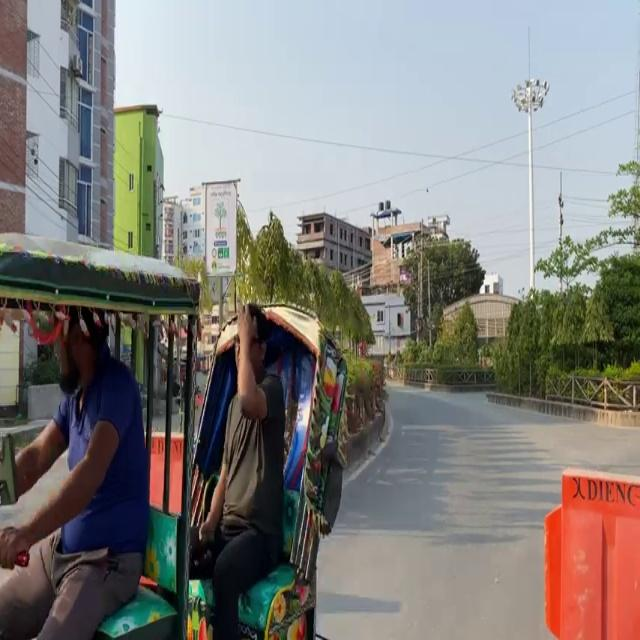Car: (543, 467, 639, 639)
Construction-barrier: (385, 379, 638, 430), (320, 387, 393, 533), (484, 389, 639, 429), (341, 390, 393, 485), (384, 380, 497, 392)
Garbage-bin: (0, 305, 150, 639), (193, 302, 286, 639)
